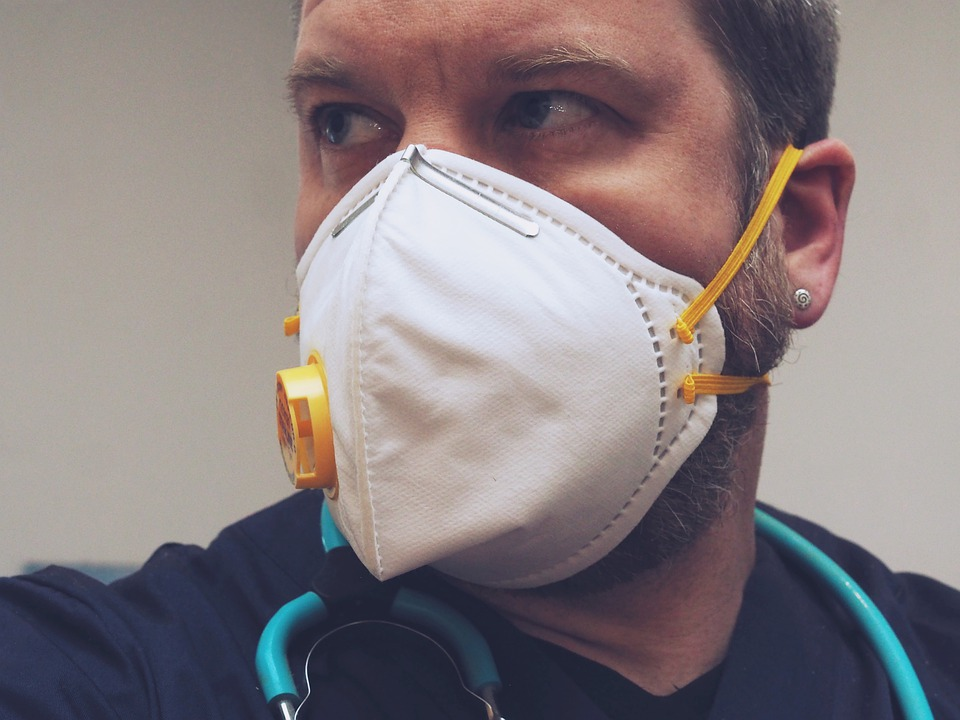with_mask: (236, 4, 878, 598)
